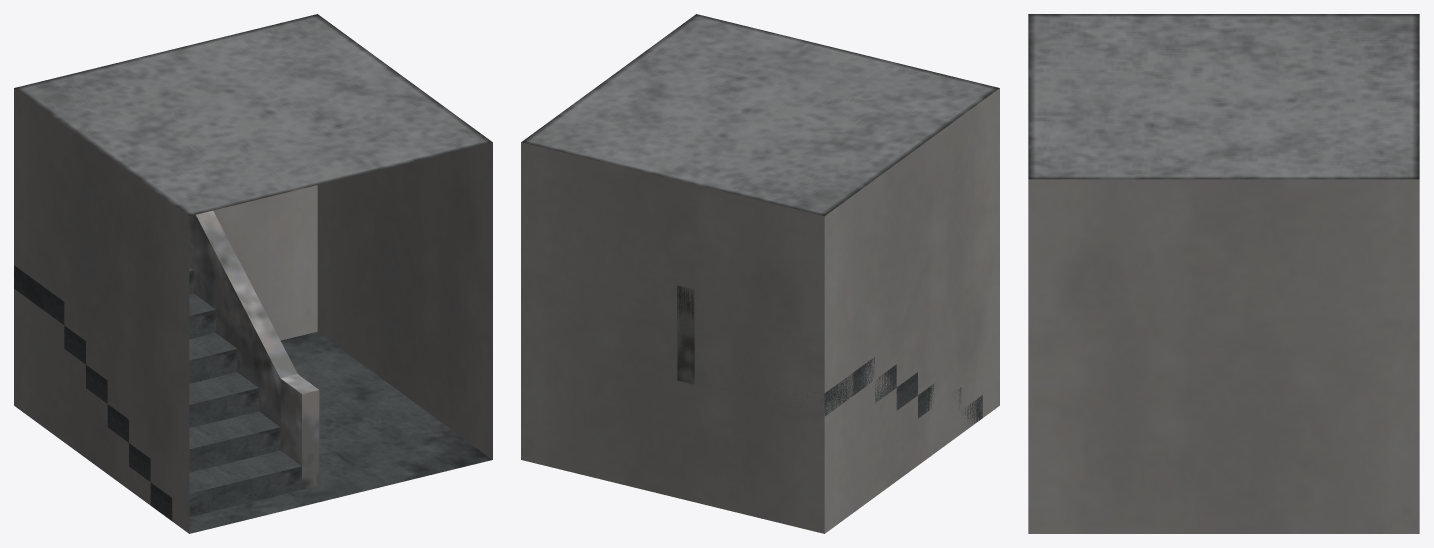
Rendered from h-stairs-alt.fbx.
3 renders of one model, left to right at view 1: azimuth 30°, elevation 25°; view 2: azimuth 150°, elevation 25°; view 3: azimuth 270°, elevation 25°, orthographic. The views are drawn at different scales.
Parts seen in each view (by area): view 1: Cube, Cube.001, Cube.004, Cube.006; view 2: Cube, Cube.001, Cube.004, Cube.006; view 3: Cube.
Boxes of the visible parts, x1,y1,x2,y2 form: Cube: (14, 14, 492, 533); Cube.001: (43, 267, 301, 520); Cube.004: (189, 210, 319, 489); Cube.006: (14, 265, 42, 309); Cube: (521, 14, 999, 533); Cube.001: (853, 357, 982, 427); Cube.004: (677, 285, 694, 384); Cube.006: (723, 373, 853, 416); Cube: (1028, 14, 1419, 533).
Size of the model in its own units: 200 by 200 by 200.
